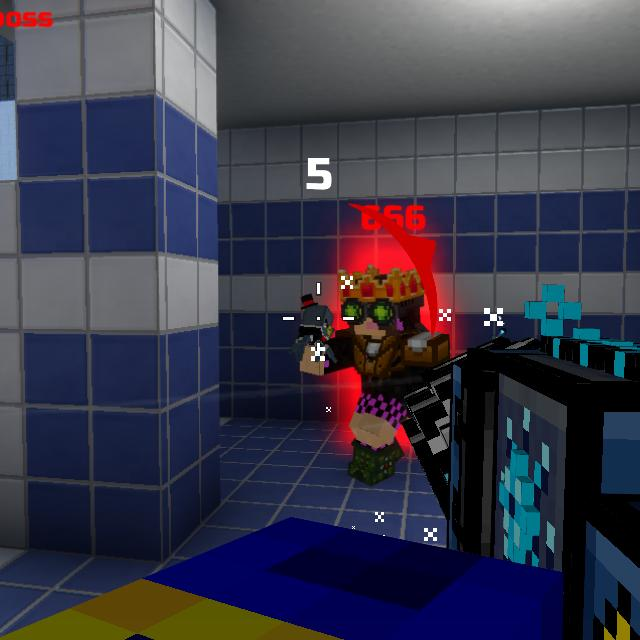Enemy: (326, 275, 452, 490)
